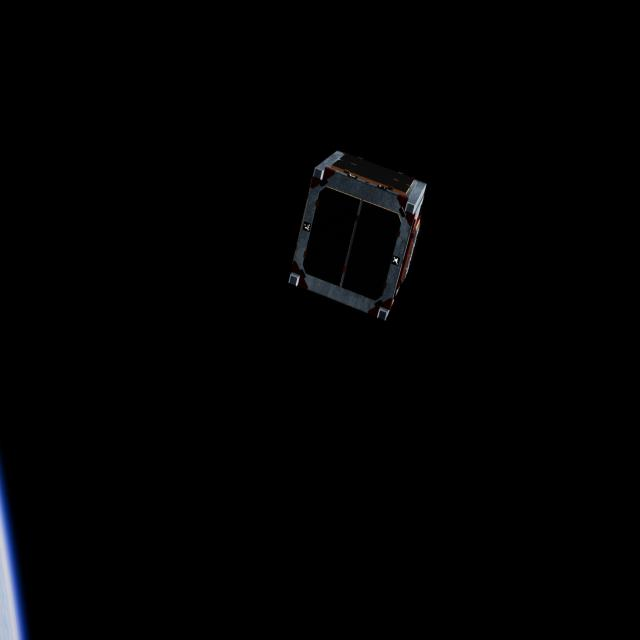medium_debris: (288, 147, 434, 323)
